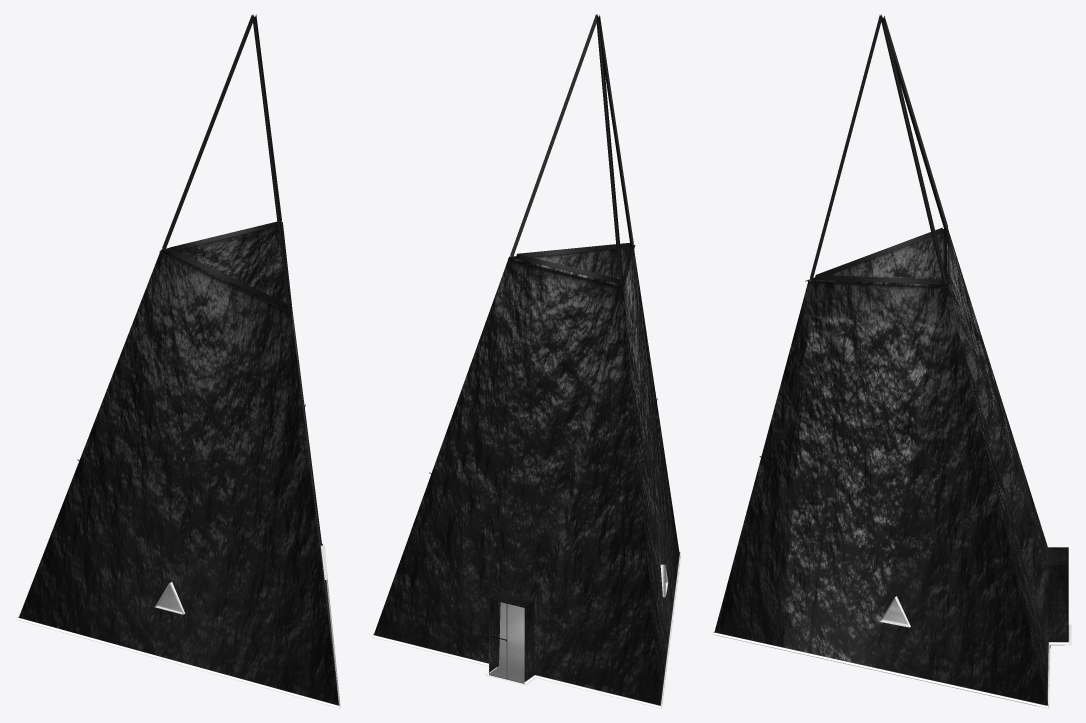
The model's file is xr_gallery.glb.
3 renders of one model, left to right at view 1: azimuth 30°, elevation 25°; view 2: azimuth 150°, elevation 25°; view 3: azimuth 270°, elevation 25°, orthographic. The views are drawn at different scales.
Parts seen in each view (by area): view 1: gallery; view 2: gallery; view 3: gallery.
Boxes of the visible parts, x1,y1,x2,y2 form: gallery: (15,14,340,708); gallery: (370,14,681,708); gallery: (710,14,1071,708).
Bounding box in the file's own units: 8.11 × 15.8 × 8.36.
Materials: 2 (1 with a texture image).
